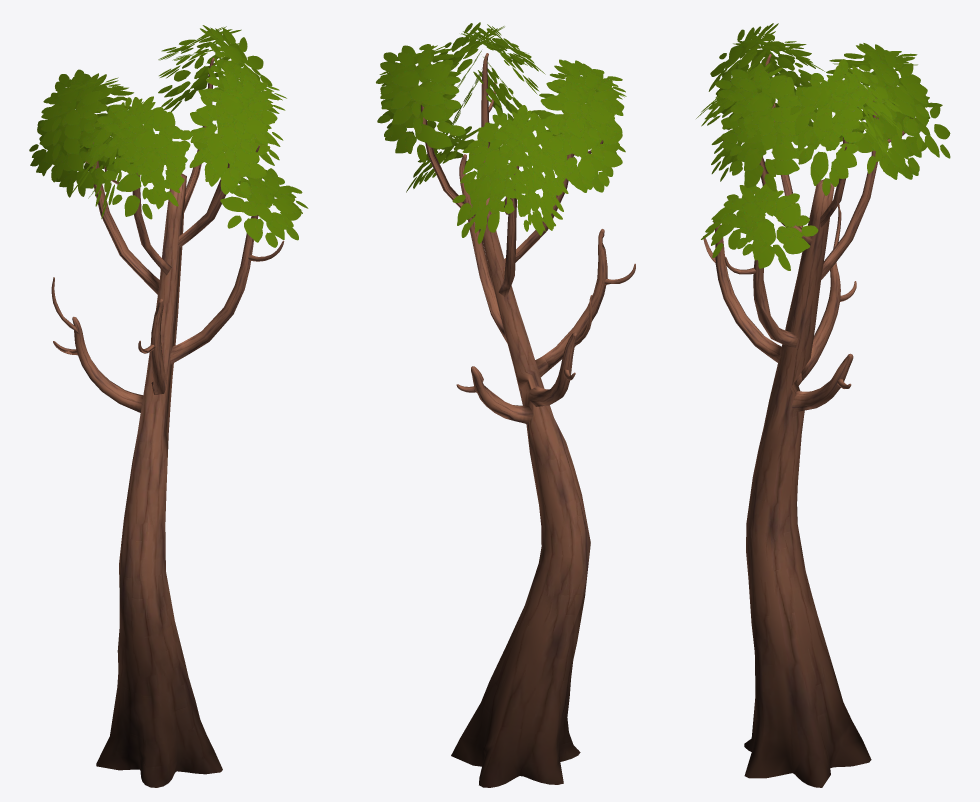
The model's file is feuillu-eleve.lod1.glb.
3 renders of one model, left to right at view 1: azimuth 30°, elevation 25°; view 2: azimuth 150°, elevation 25°; view 3: azimuth 270°, elevation 25°, orthographic. The views are drawn at different scales.
Visible parts, largest first — view 1: CommonTree_4; view 2: CommonTree_4; view 3: CommonTree_4.
Part boxes in pixels (box(x1,y1,x2,y2)): CommonTree_4: box(29, 25, 308, 787); CommonTree_4: box(376, 22, 635, 787); CommonTree_4: box(696, 23, 950, 787).
Size of the model in its own units: 3.03 by 8.74 by 3.06.
2 materials, 2 textured.
